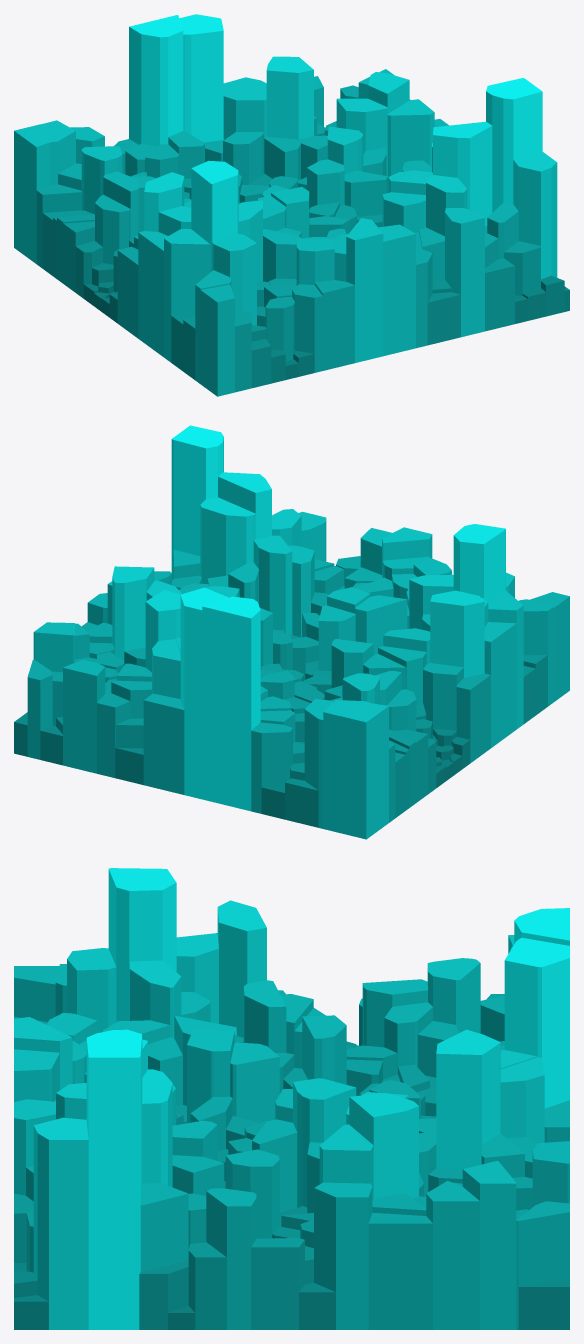
Rendered from VTOWNb.fbx.
3 views of the same model, one above another, from view 1: azimuth 30°, elevation 25°; view 2: azimuth 150°, elevation 25°; view 3: azimuth 270°, elevation 25° (orthographic). The views are drawn at different scales.
Visible parts, largest first — view 1: オブジェクト_251, オブジェクト_103, オブジェクト_214, オブジェクト_205, オブジェクト_207, オブジェクト_100, オブジェクト_177, オブジェクト_6, オブジェクト_211, オブジェクト_51, オブジェクト_206, オブジェクト_69 (+57 smaller); view 2: オブジェクト_251, オブジェクト_51, オブジェクト_103, オブジェクト_214, オブジェクト_159, オブジェクト_276, オブジェクト_179, オブジェクト_147, オブジェクト_230, オブジェクト_244, オブジェクト_200, オブジェクト_40 (+56 smaller); view 3: オブジェクト_103, オブジェクト_207, オブジェクト_214, オブジェクト_211, オブジェクト_37, オブジェクト_154, オブジェクト_230, オブジェクト_162, オブジェクト_58, オブジェクト_200, オブジェクト_161, オブジェクト_159 (+55 smaller).
Part boxes in pixels (x1,y1,x2,y2): オブジェクト_251: (129,15,183,146); オブジェクト_103: (486,78,542,212); オブジェクト_214: (179,14,223,142); オブジェクト_205: (346,218,383,362); オブジェクト_207: (513,151,557,279); オブジェクト_100: (445,208,484,337); オブジェクト_177: (433,121,492,226); オブジェクト_6: (378,224,415,356); オブジェクト_211: (266,56,313,139); オブジェクト_51: (14,124,50,263); オブジェクト_206: (200,284,234,396); オブジェクト_69: (164,229,210,362); オブジェクト_251: (202,596,260,811); オブジェクト_51: (340,703,388,839); オブジェクト_103: (171,425,223,580); オブジェクト_214: (180,587,228,799); オブジェクト_159: (430,590,484,677); オブジェクト_276: (63,659,105,773); オブジェクト_179: (143,693,184,794); オブジェクト_147: (200,497,255,583); オブジェクト_230: (453,524,505,601); オブジェクト_244: (484,622,516,747); オブジェクト_200: (112,566,154,660); オブジェクト_40: (253,535,292,634); オブジェクト_103: (86,1029,142,1329); オブジェクト_207: (33,1117,88,1329); オブジェクト_214: (504,937,569,1108); オブジェクト_211: (436,1029,500,1168); オブジェクト_37: (368,1212,432,1329); オブジェクト_154: (314,1182,372,1329); オブジェクト_230: (108,868,176,1021); オブジェクト_162: (426,1181,479,1329); オブジェクト_58: (462,1161,516,1329); オブジェクト_200: (349,1093,418,1198); オブジェクト_161: (206,1188,256,1329); オブジェクト_159: (217,900,266,1037).
Bounding box in the file's own units: 100 × 100 × 54.
